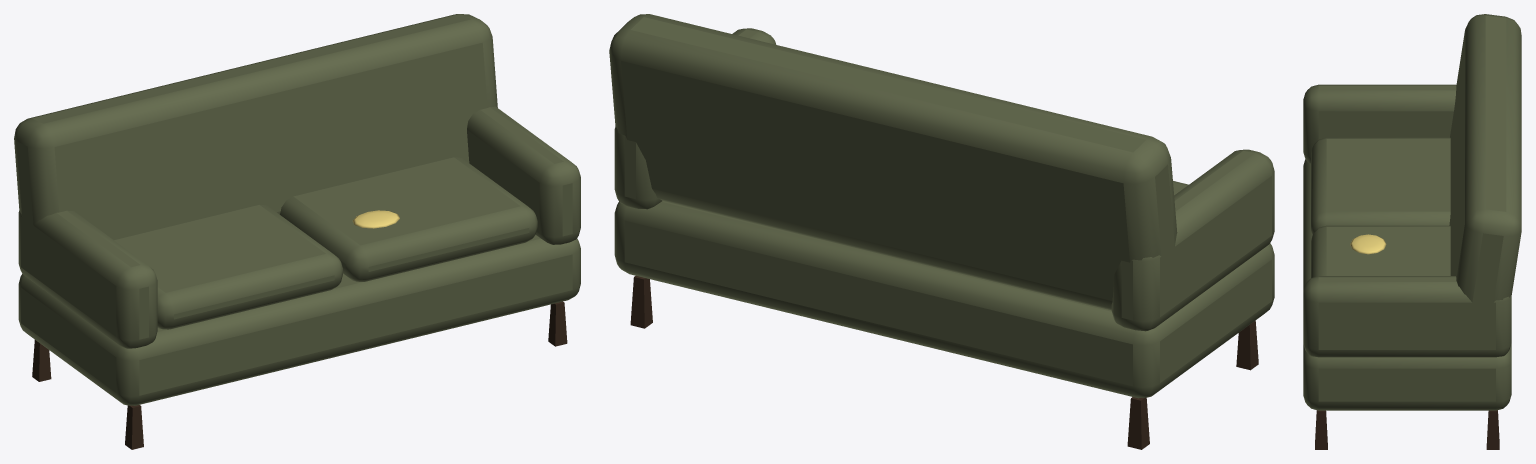
File: sofa_old.fbx
3 renders of one model, left to right at view 1: azimuth 30°, elevation 25°; view 2: azimuth 150°, elevation 25°; view 3: azimuth 270°, elevation 25°, orthographic. The views are drawn at different scales.
Parts seen in each view (by area): view 1: sofa_old; view 2: sofa_old; view 3: sofa_old.
Boxes of the visible parts, box(x1,y1,x2,y2) form: sofa_old: box(14, 14, 580, 449); sofa_old: box(609, 14, 1274, 449); sofa_old: box(1303, 14, 1521, 449).
Bounding box in the file's own units: 1.9 × 1.01 × 0.8395.
